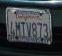3: (42, 23, 49, 38)
4: (10, 20, 15, 38)
7: (37, 22, 43, 37)
8: (31, 22, 38, 37)
M: (15, 21, 21, 36)
T: (21, 21, 26, 37)
V: (26, 22, 32, 37)
